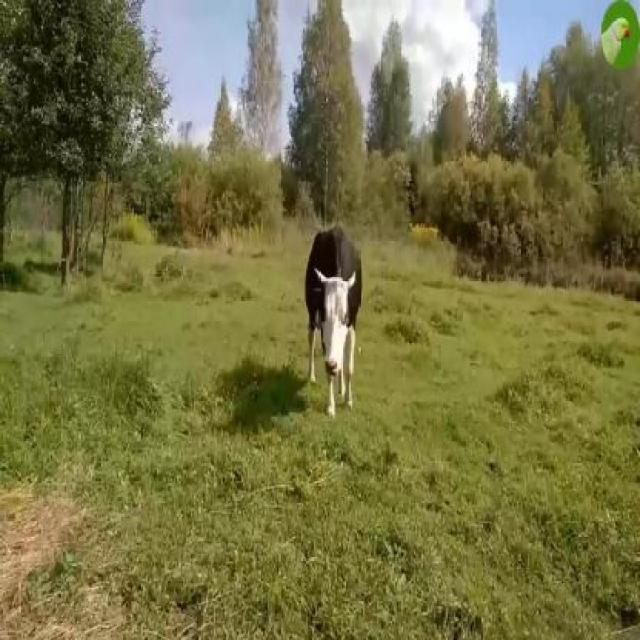Cow: (302, 227, 363, 418)
